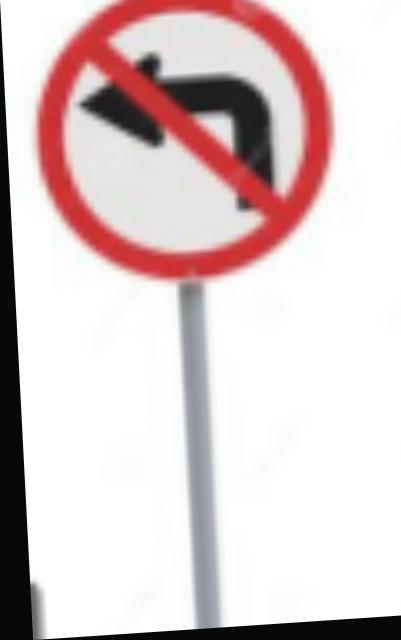not_turn_left: (13, 0, 337, 282)
